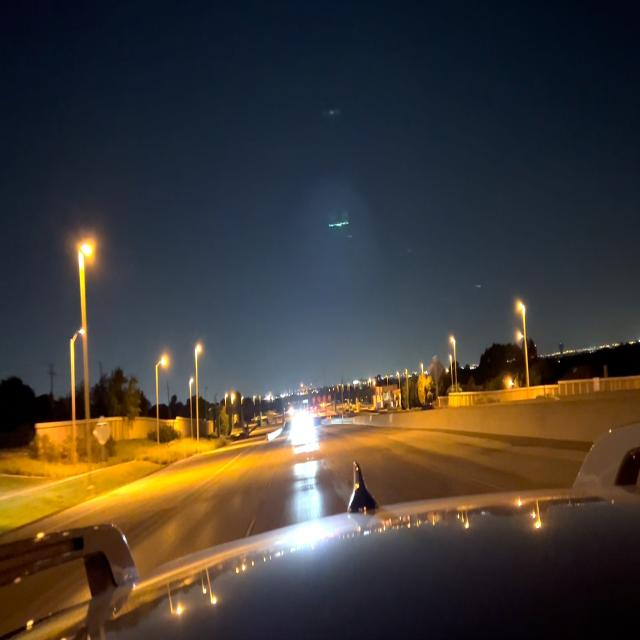back-of-sign: (93, 415, 112, 446)
